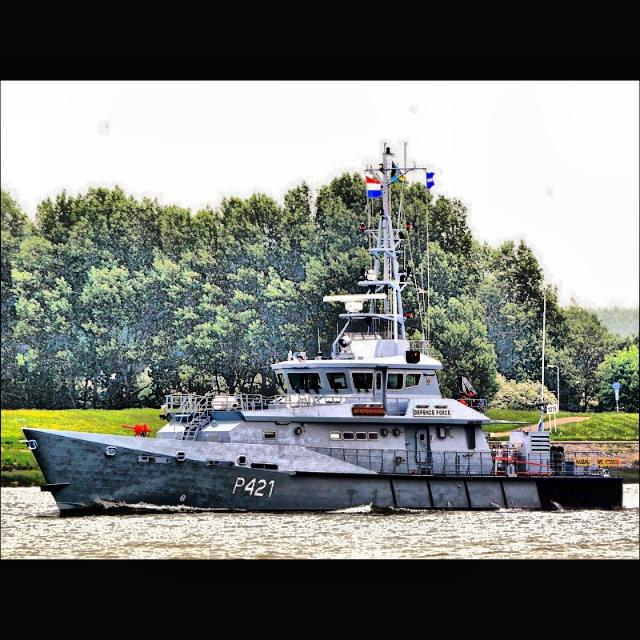patrol_vessel: (21, 142, 624, 518)
